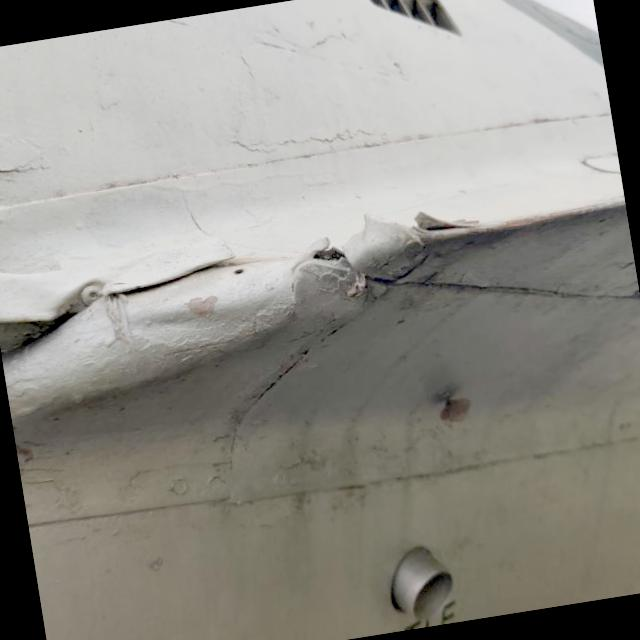crack: (352, 170, 504, 272), (278, 212, 372, 299)
